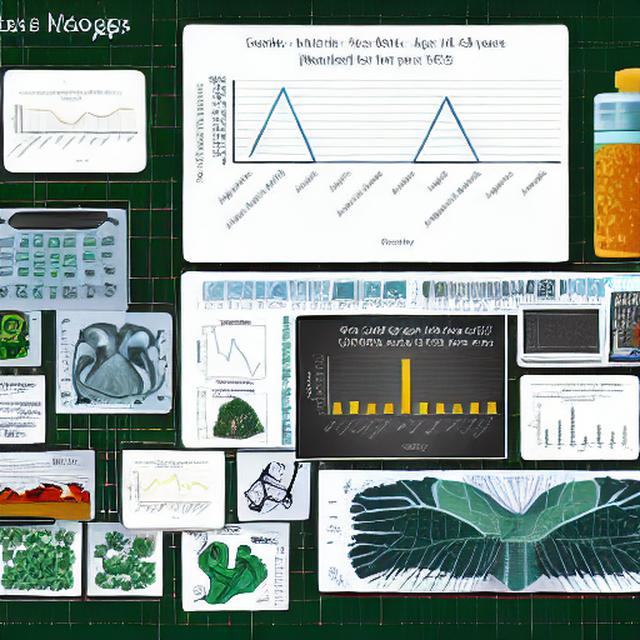Graph: (187, 28, 567, 255), (302, 321, 505, 457), (4, 87, 141, 164), (189, 317, 280, 385), (125, 460, 215, 524), (523, 397, 621, 454), (531, 312, 599, 353)
